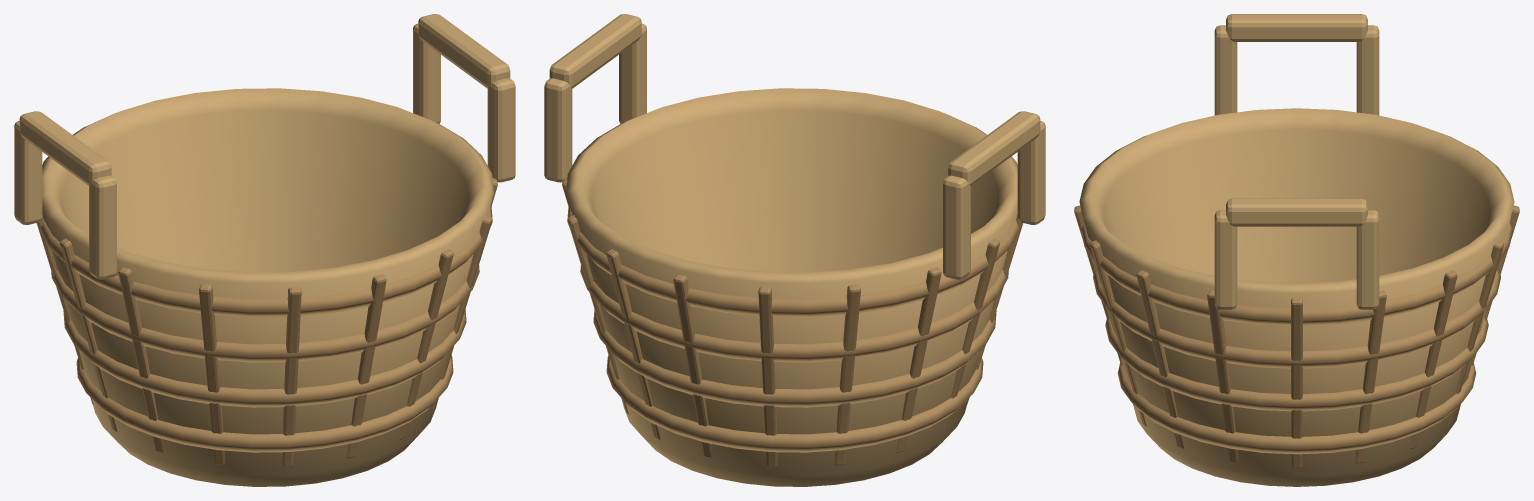
Rendered from basket_empty.glb.
The picture shows the model from 3 angles, left to right: view 1: azimuth 30°, elevation 25°; view 2: azimuth 150°, elevation 25°; view 3: azimuth 270°, elevation 25°; orthographic projection. The views are drawn at different scales.
Visible parts, largest first — view 1: basket_empty; view 2: basket_empty; view 3: basket_empty.
Part boxes in pixels (box(x1,y1,x2,y2)): basket_empty: box(14, 14, 515, 486); basket_empty: box(544, 14, 1045, 486); basket_empty: box(1074, 14, 1519, 486).
Bounding box in the file's own units: 0.488 × 0.368 × 0.4709.
